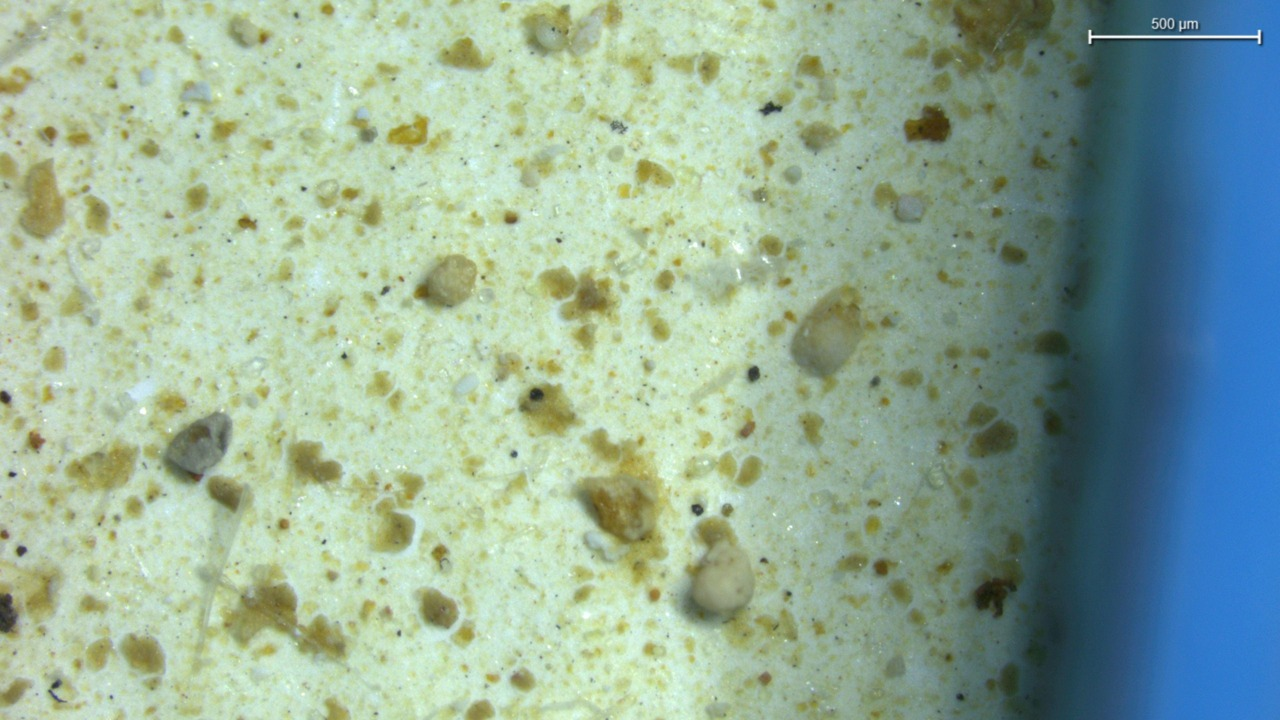microplastic_fragment: (791, 287, 863, 376), (577, 475, 658, 541), (690, 542, 754, 618), (164, 412, 232, 479), (415, 255, 477, 306)
